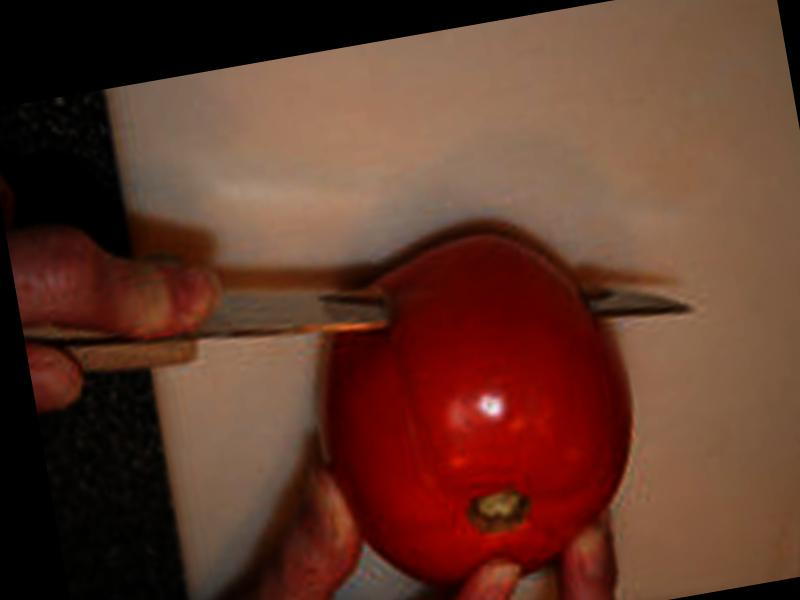Tomato: (297, 213, 660, 600)
